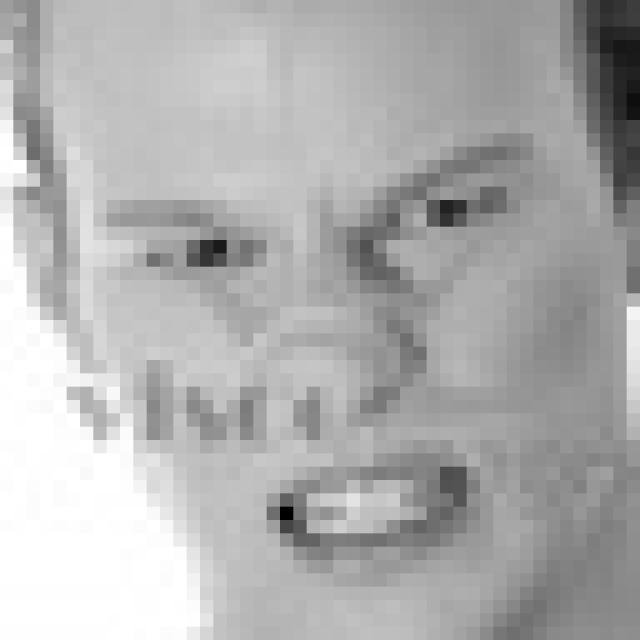angry: (97, 139, 540, 583)
